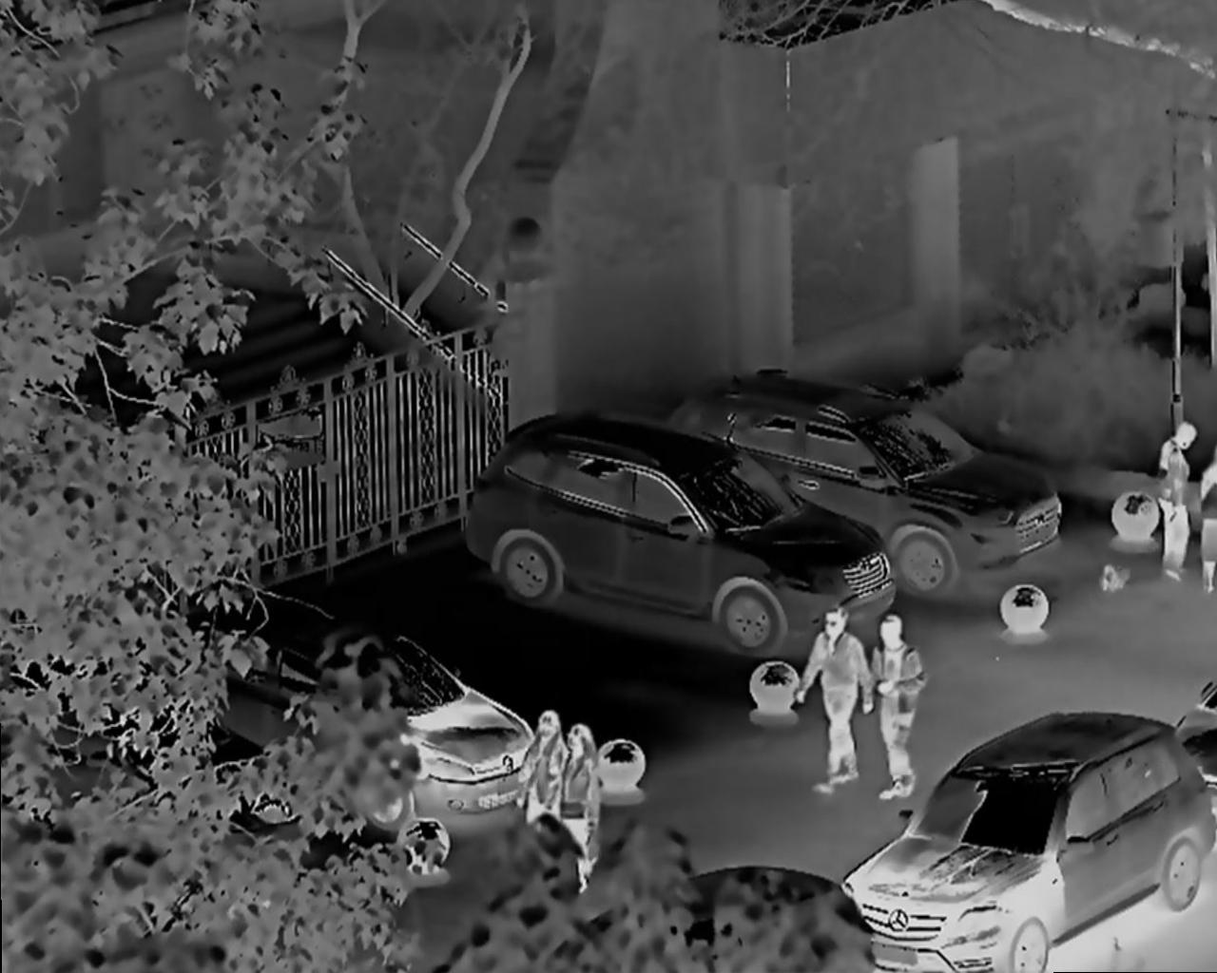person: (797, 601, 868, 813), (873, 618, 932, 800), (559, 724, 608, 872), (512, 701, 565, 830), (1163, 410, 1200, 582)
